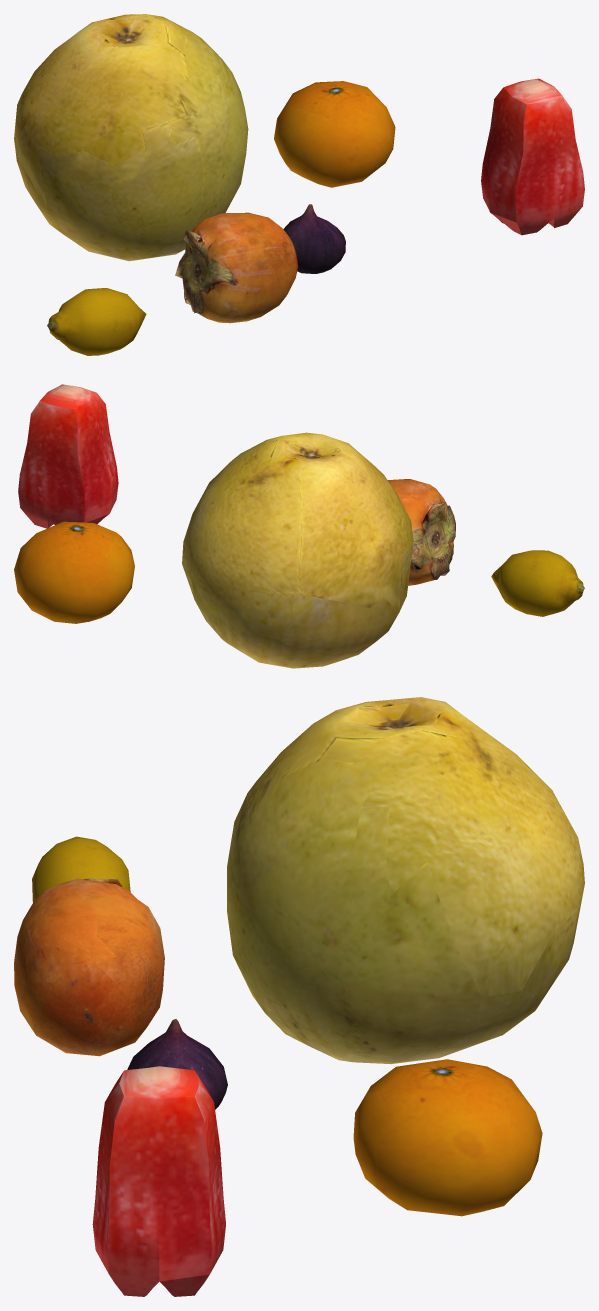
File: grapefruit.fbx
The picture shows the model from 3 angles, top to bottom: view 1: azimuth 30°, elevation 25°; view 2: azimuth 150°, elevation 25°; view 3: azimuth 270°, elevation 25°; orthographic projection. The views are drawn at different scales.
Visible parts, largest first — view 1: Grapefruit, Cube.040, Object_2.005, Mandarin Orange_Mandarin_0, Lemon_Lemon_0, fig whole 1_fig outside_0; view 2: Grapefruit, Cube.040, Mandarin Orange_Mandarin_0, Lemon_Lemon_0, Object_2.005; view 3: Grapefruit, Cube.040, Mandarin Orange_Mandarin_0, Object_2.005, Lemon_Lemon_0, fig whole 1_fig outside_0.
Part boxes in pixels (x1,y1,x2,y2): Grapefruit: (14,14,248,261); Cube.040: (481,78,584,235); Object_2.005: (175,212,298,323); Mandarin Orange_Mandarin_0: (274,81,395,187); Lemon_Lemon_0: (47,288,146,355); fig whole 1_fig outside_0: (283,204,345,273); Grapefruit: (182,432,413,668); Cube.040: (18,384,118,528); Mandarin Orange_Mandarin_0: (14,521,134,623); Lemon_Lemon_0: (491,550,584,616); Object_2.005: (388,479,455,585); Grapefruit: (227,697,584,1064); Cube.040: (92,1066,225,1296); Mandarin Orange_Mandarin_0: (353,1059,542,1216); Object_2.005: (14,878,164,1056); Lemon_Lemon_0: (32,836,130,902); fig whole 1_fig outside_0: (127,1019,227,1109).
Size of the model in its own units: 41.85 by 15.71 by 24.8.
Materials: 1 (1 with a texture image).
